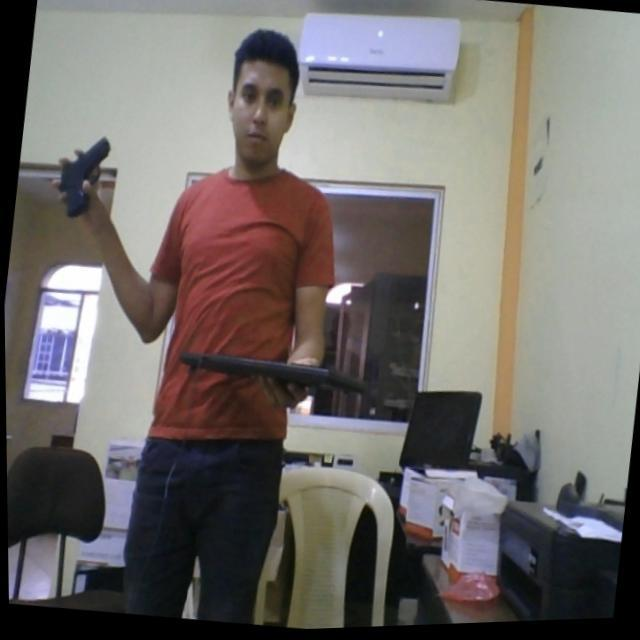weapon: (46, 128, 114, 223)
